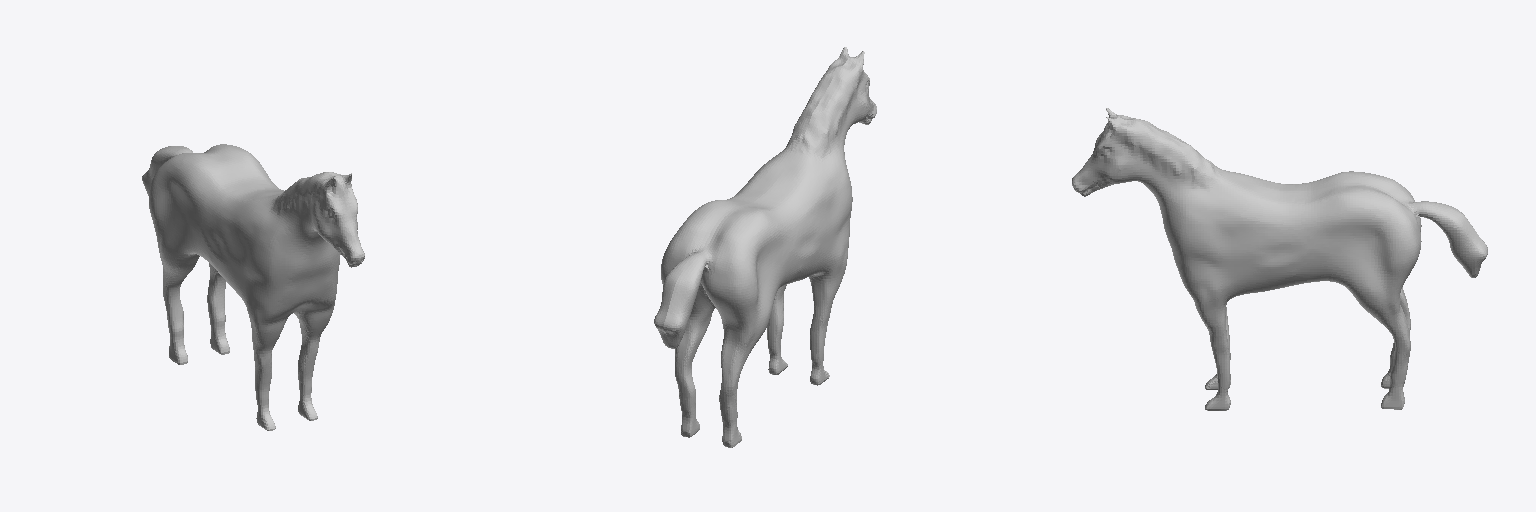
File: At-modeli.obj
3 renders of one model, left to right at view 1: azimuth 30°, elevation 25°; view 2: azimuth 150°, elevation 25°; view 3: azimuth 270°, elevation 25°, orthographic.
Visible parts, largest first — view 1: At_Modeli_Kaplamalı_uv; view 2: At_Modeli_Kaplamalı_uv; view 3: At_Modeli_Kaplamalı_uv.
Boxes of the visible parts, box(x1,y1,x2,y2) form: At_Modeli_Kaplamalı_uv: box(142, 144, 364, 430); At_Modeli_Kaplamalı_uv: box(654, 47, 876, 447); At_Modeli_Kaplamalı_uv: box(1072, 108, 1487, 410).
Size of the model in its own units: 12.96 by 38.8 by 50.96.